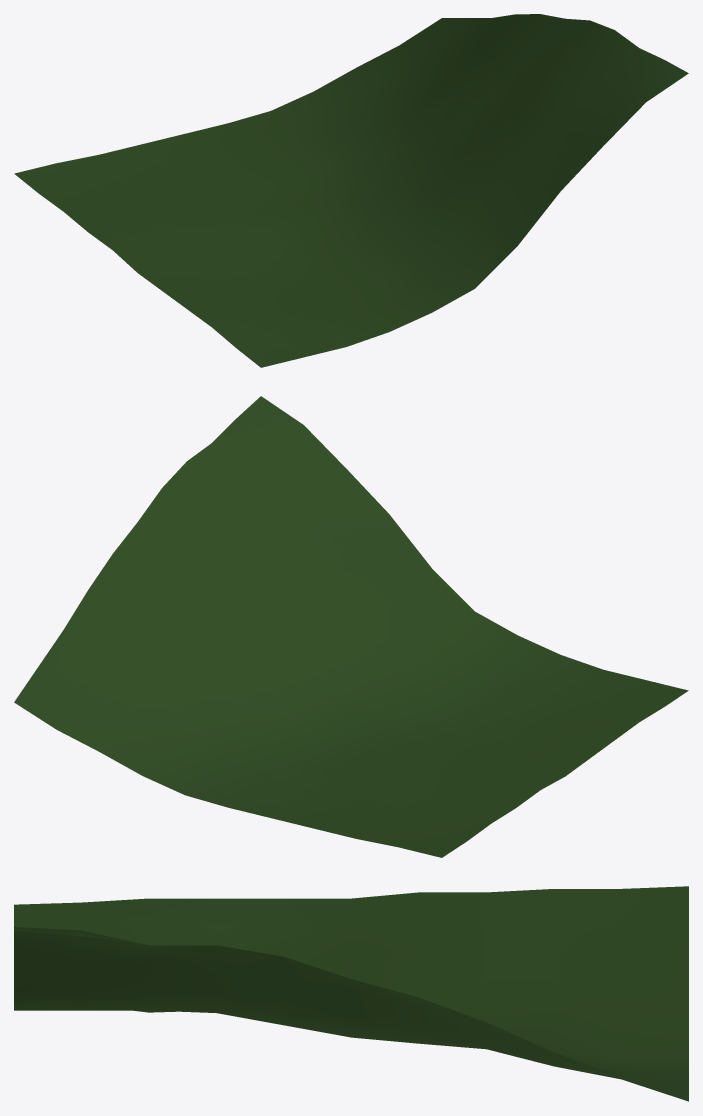
The picture shows the model from 3 angles, top to bottom: view 1: azimuth 30°, elevation 25°; view 2: azimuth 150°, elevation 25°; view 3: azimuth 270°, elevation 25°; orthographic projection. The views are drawn at different scales.
Parts seen in each view (by area): view 1: TerrainModel.061; view 2: TerrainModel.061; view 3: TerrainModel.061.
Part boxes in pixels (<box>): TerrainModel.061: <box>14,14,688,367</box>; TerrainModel.061: <box>14,396,688,857</box>; TerrainModel.061: <box>14,886,688,1101</box>.
Size of the model in its own units: 19608 by 8326 by 19608.
